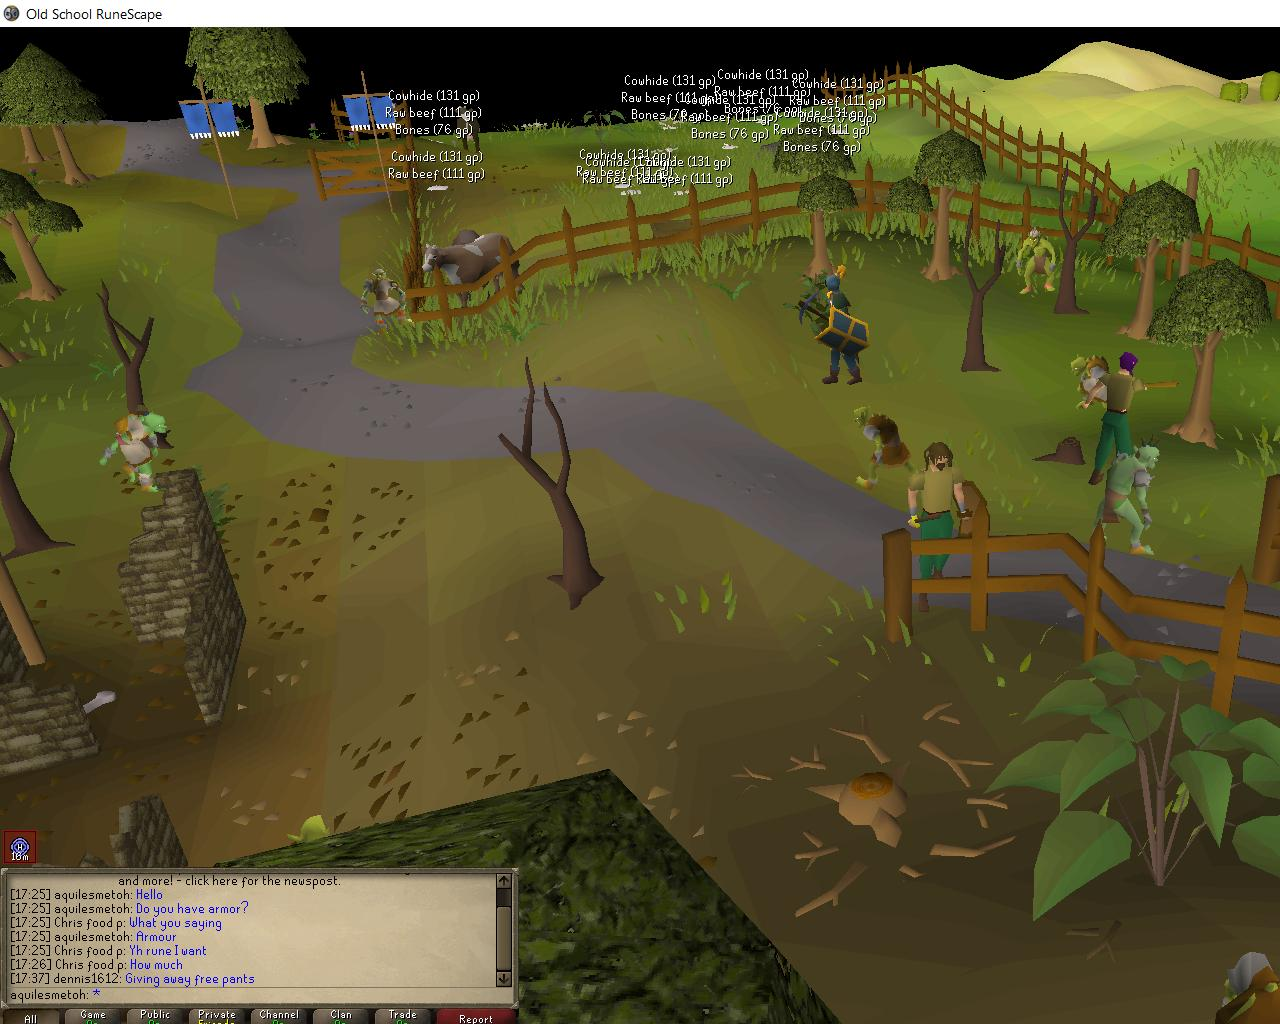Goblin: (1095, 438, 1163, 559), (98, 408, 172, 494), (851, 408, 920, 491), (1013, 227, 1061, 297), (356, 265, 408, 328), (1071, 354, 1123, 413), (282, 810, 343, 845)
